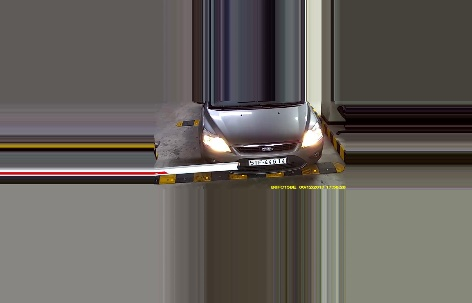plate: (248, 156, 288, 165)
